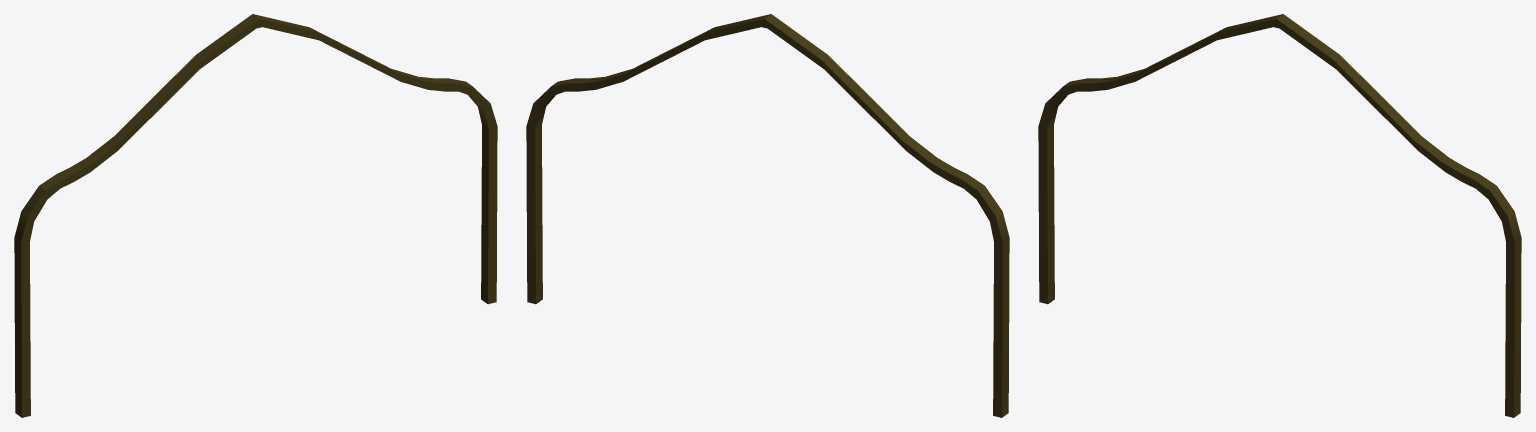
File: Beam.fbx
The picture shows the model from 3 angles, left to right: view 1: azimuth 30°, elevation 25°; view 2: azimuth 150°, elevation 25°; view 3: azimuth 330°, elevation 25°; orthographic projection.
Visible parts, largest first — view 1: Beams; view 2: Beams; view 3: Beams.
Part boxes in pixels (x1,y1,x2,y2): Beams: (14, 14, 497, 417); Beams: (526, 14, 1009, 417); Beams: (1038, 14, 1521, 417).
Size of the model in its own units: 0.2411 by 0.165 by 0.00594.
